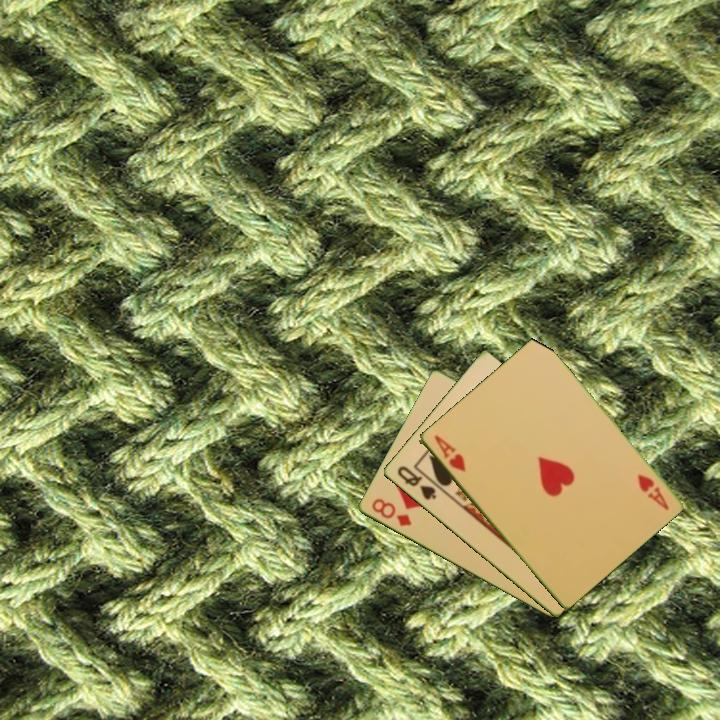8d: (368, 495, 415, 529)
Ah: (430, 431, 469, 475), (633, 470, 672, 513)
Qs: (393, 462, 439, 503)
